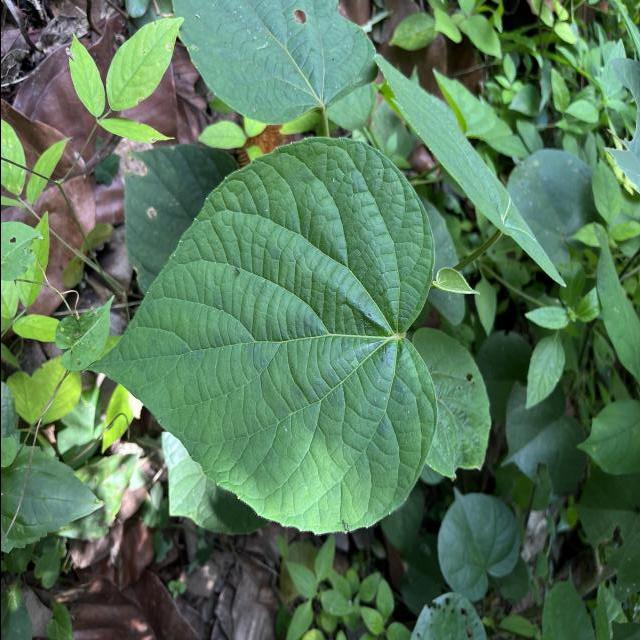Clerodendrum infortunatum: (80, 134, 438, 541)
